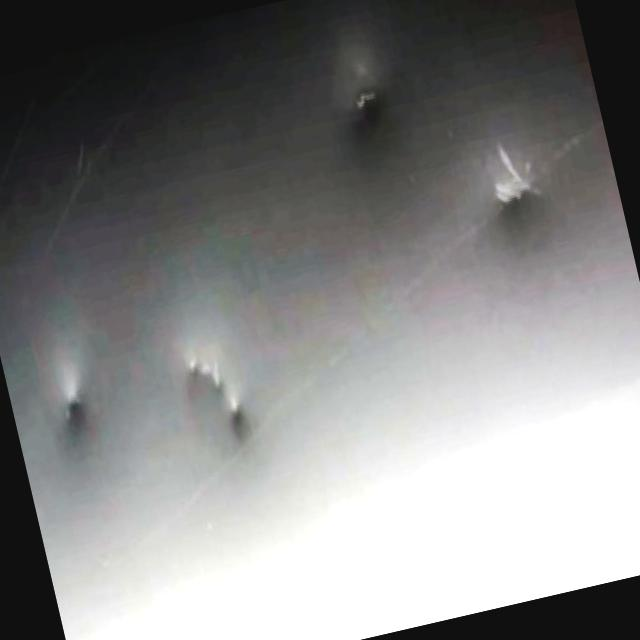dent: (297, 10, 407, 156), (155, 318, 267, 461), (473, 156, 538, 242), (49, 372, 110, 456)
